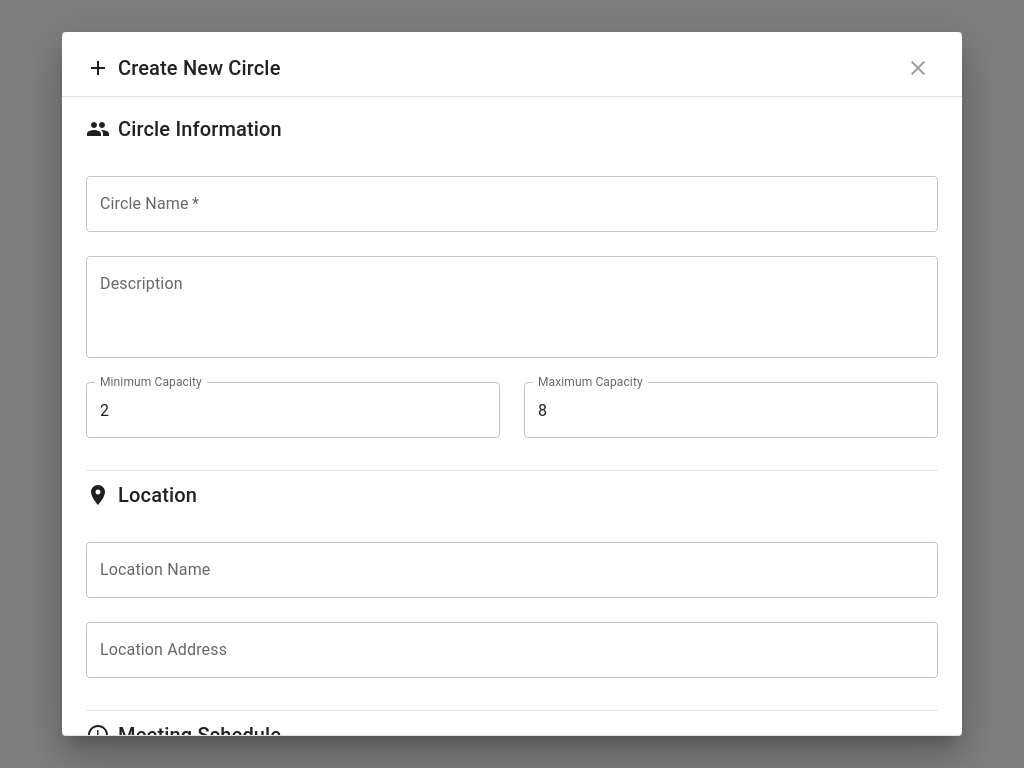
Scenario: CircleCreateDialog › Form Submission › should handle API errors gracefully
Type "Test Circle" into the field labelled "Circle Name *".
click(512, 204); type("Test Circle")  # box [86, 176, 938, 232]
(page scrolled)
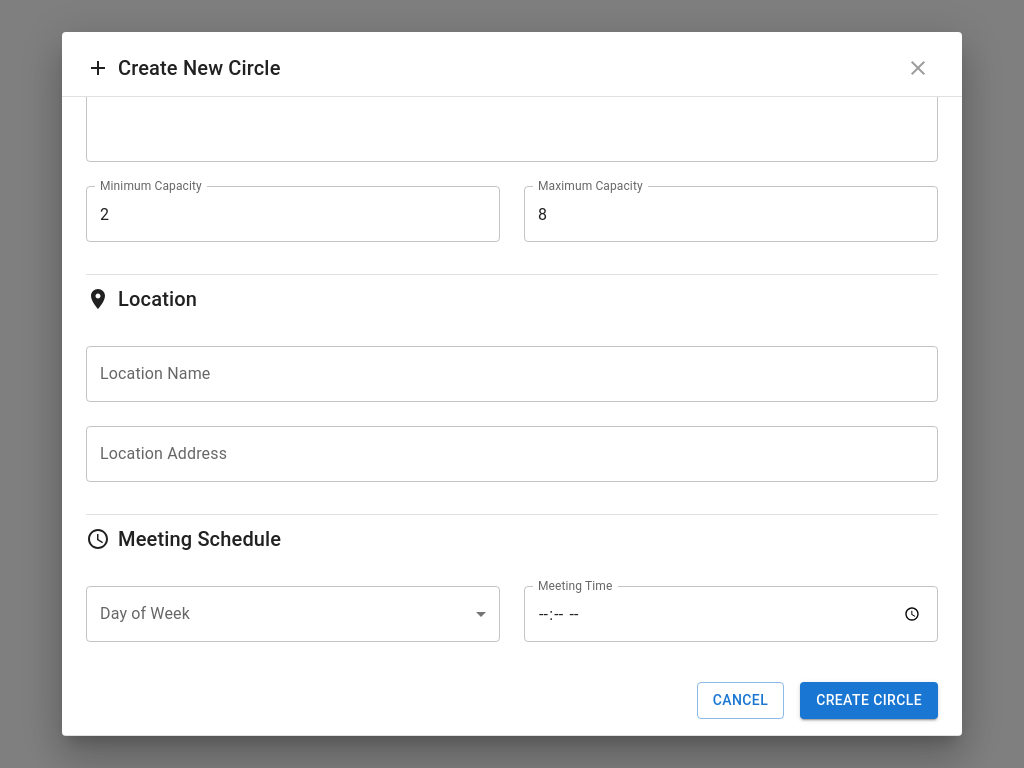
Click the button "Create Circle".
click(869, 700)  # box [800, 682, 938, 718]
(page scrolled)
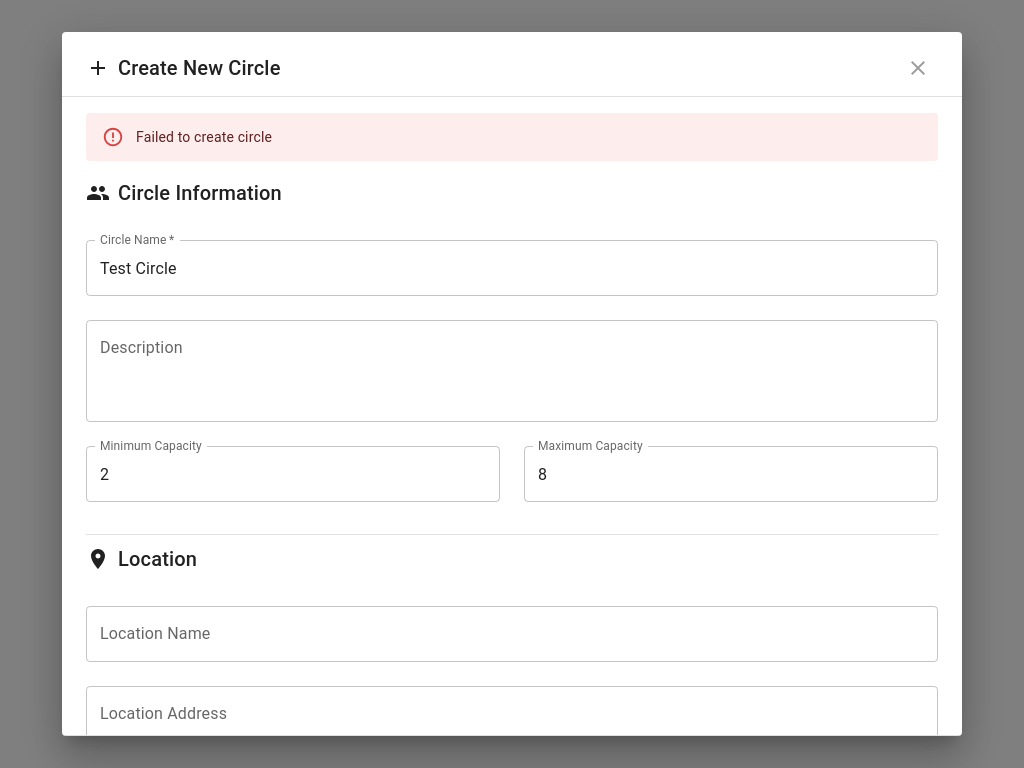
Expected: the text "Failed to create circle" is shown, [136, 129, 272, 145]
